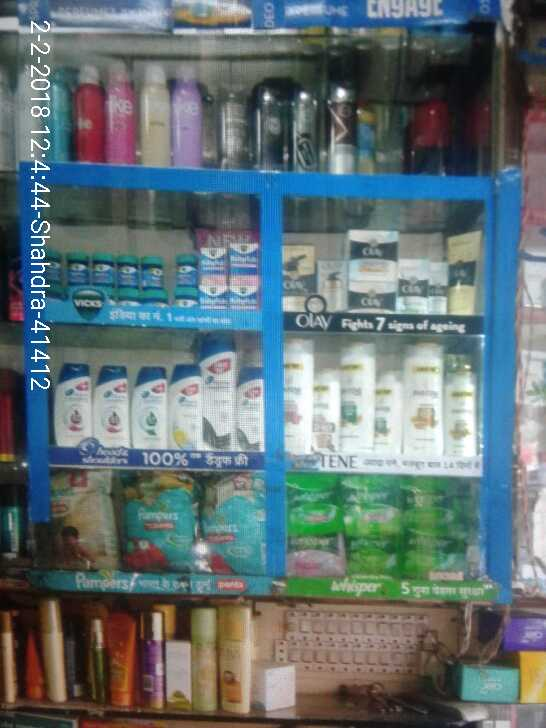vicks: (30, 239, 264, 307)
